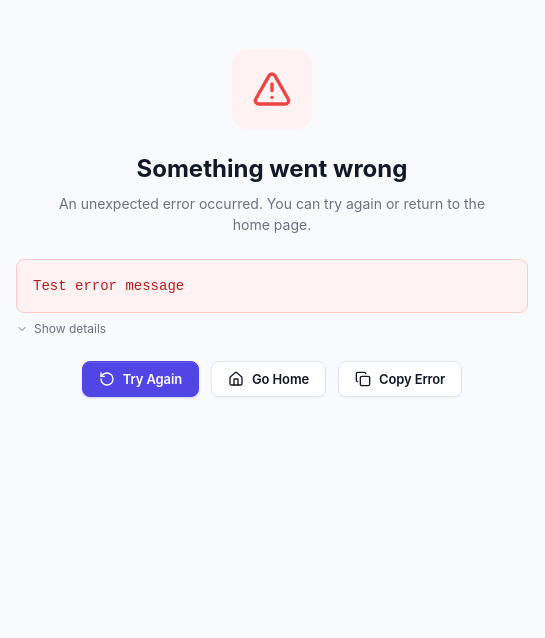
it: ErrorBoundary › shows Show/Hide details toggle
The width and height of the screenshot is (545, 638).
Click the button "Show details" at (61, 329), box [16,321,106,337]
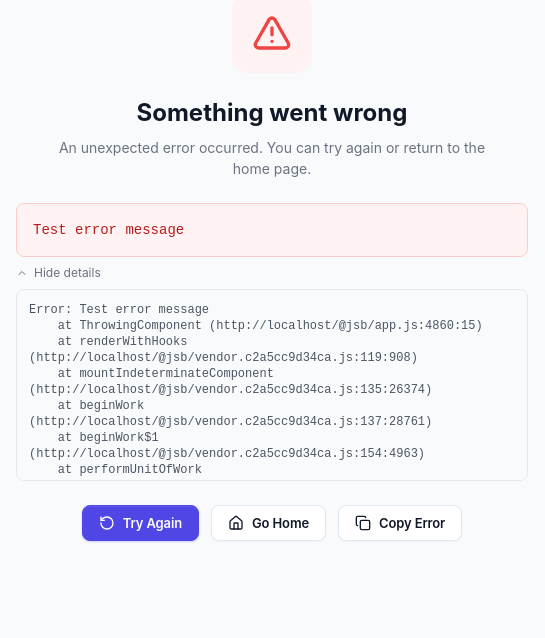
expect the button "Hide details" is shown: met
expect the text "Error: Test error message" is shown: met, box [29,303,483,621]
Click the button "Hide details" at (58, 273), box [16,265,101,281]
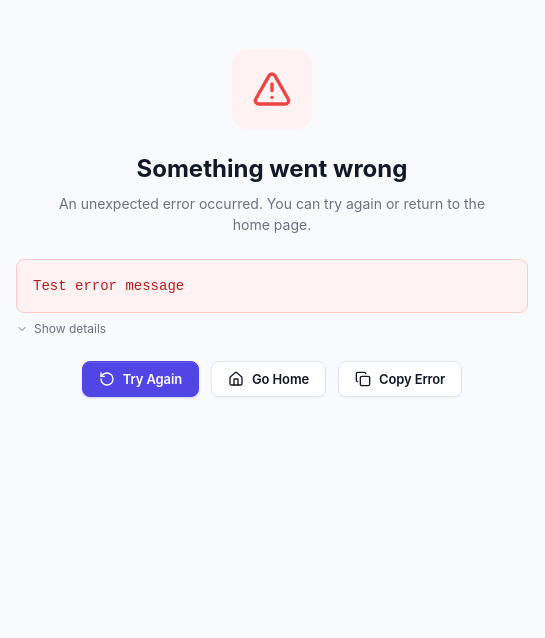
expect the button "Show details" is shown: met, box [16,321,106,337]
